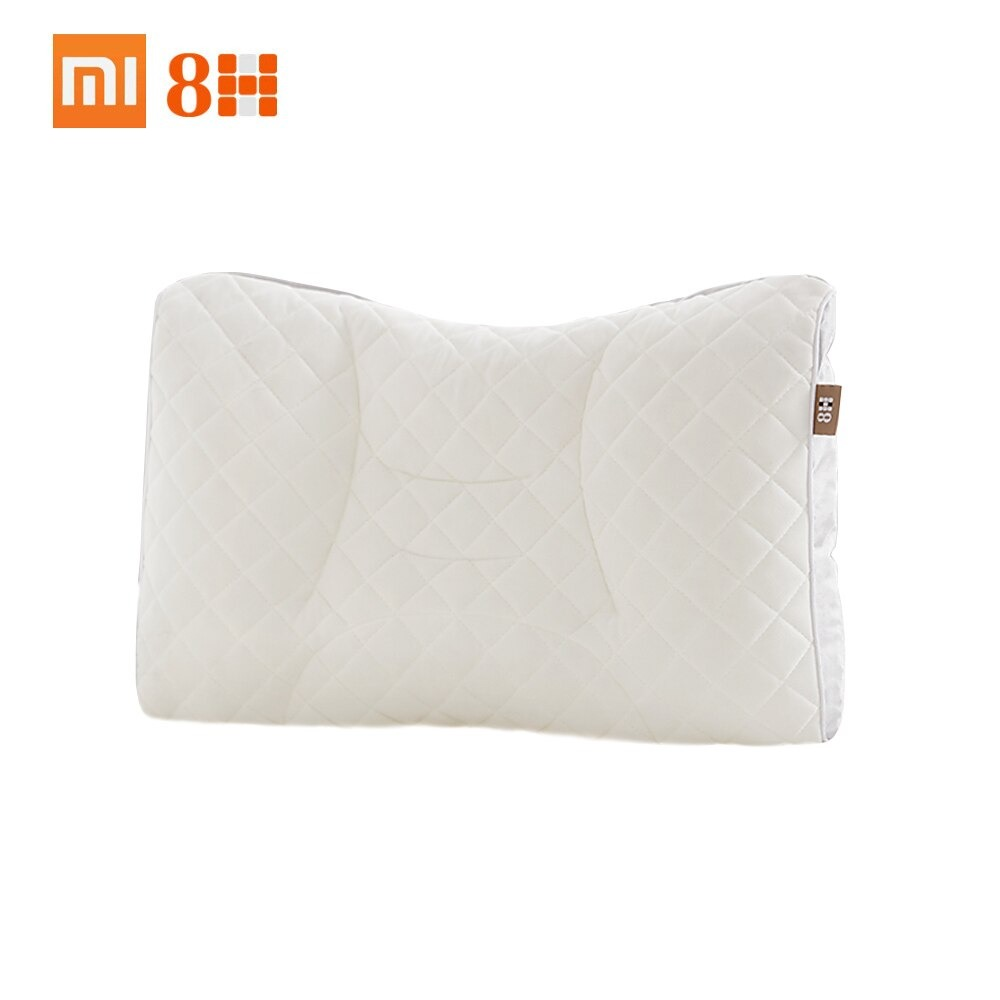bantal: (95, 243, 865, 790)
